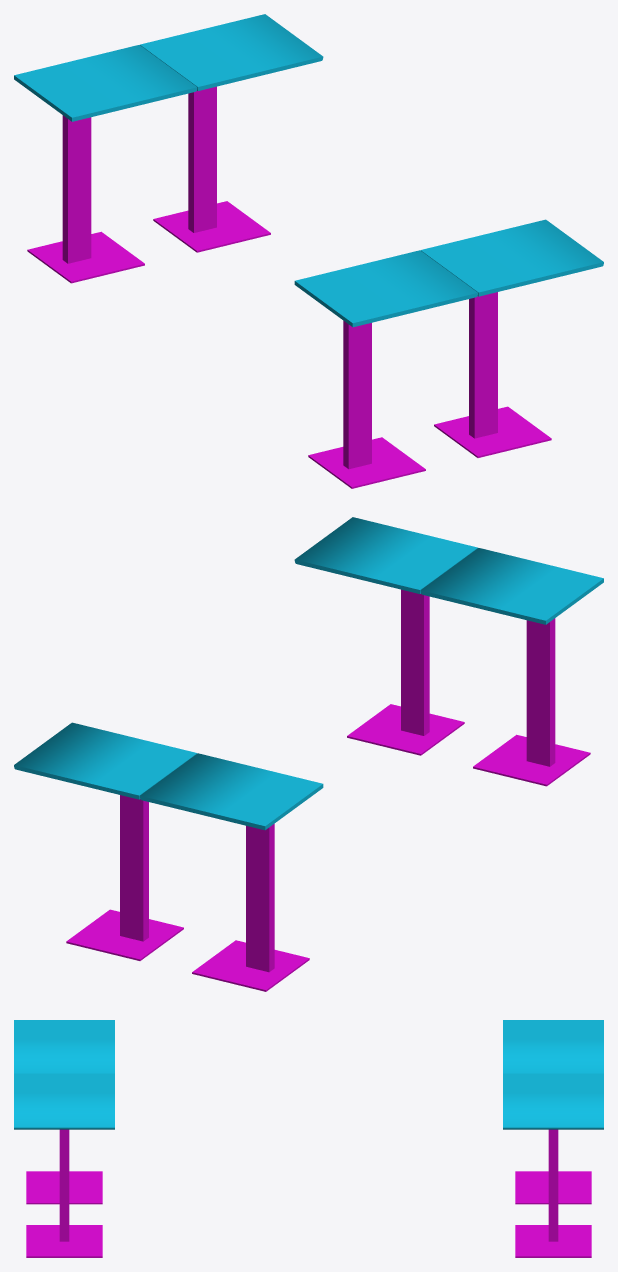
The model's file is Table_Midium_Low_Group.fbx.
3 views of the same model, one above another, from view 1: azimuth 30°, elevation 25°; view 2: azimuth 150°, elevation 25°; view 3: azimuth 270°, elevation 25° (orthographic). The views are drawn at different scales.
Visible parts, largest first — view 1: Table_Midium_Low, Table_Midium_Low002, Table_Midium_Low003, Table_Midium_Low001; view 2: Table_Midium_Low002, Table_Midium_Low, Table_Midium_Low001, Table_Midium_Low003; view 3: Table_Midium_Low001, Table_Midium_Low003, Table_Midium_Low, Table_Midium_Low002.
Part boxes in pixels (x1,y1,x2,y2): Table_Midium_Low: (14,45,197,283); Table_Midium_Low002: (294,250,477,488); Table_Midium_Low003: (420,219,603,457); Table_Midium_Low001: (140,14,323,252); Table_Midium_Low002: (420,548,603,786); Table_Midium_Low: (140,753,323,991); Table_Midium_Low001: (14,722,197,960); Table_Midium_Low003: (294,517,477,755); Table_Midium_Low001: (503,1073,603,1257); Table_Midium_Low003: (14,1073,114,1257); Table_Midium_Low: (503,1020,603,1204); Table_Midium_Low002: (14,1020,114,1204).
Bounding box in the file's own units: 137 × 89.88 × 320.
